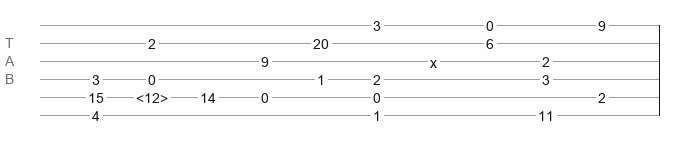0: (148, 72, 156, 82), (261, 90, 269, 100), (373, 90, 381, 100), (486, 18, 494, 28)
1: (317, 72, 325, 82), (373, 108, 381, 118)
11: (538, 108, 554, 118)
14: (200, 90, 216, 100)
15: (88, 90, 104, 100)
2: (148, 36, 156, 46), (373, 72, 381, 82), (542, 54, 550, 64), (598, 90, 606, 100)
20: (313, 36, 329, 46)
3: (92, 72, 100, 82), (373, 18, 381, 28), (542, 72, 550, 82)
4: (92, 108, 100, 118)
6: (486, 36, 494, 46)
9: (261, 54, 269, 64), (598, 18, 606, 28)
harmonic: (136, 90, 168, 100)
x: (430, 55, 437, 63)
